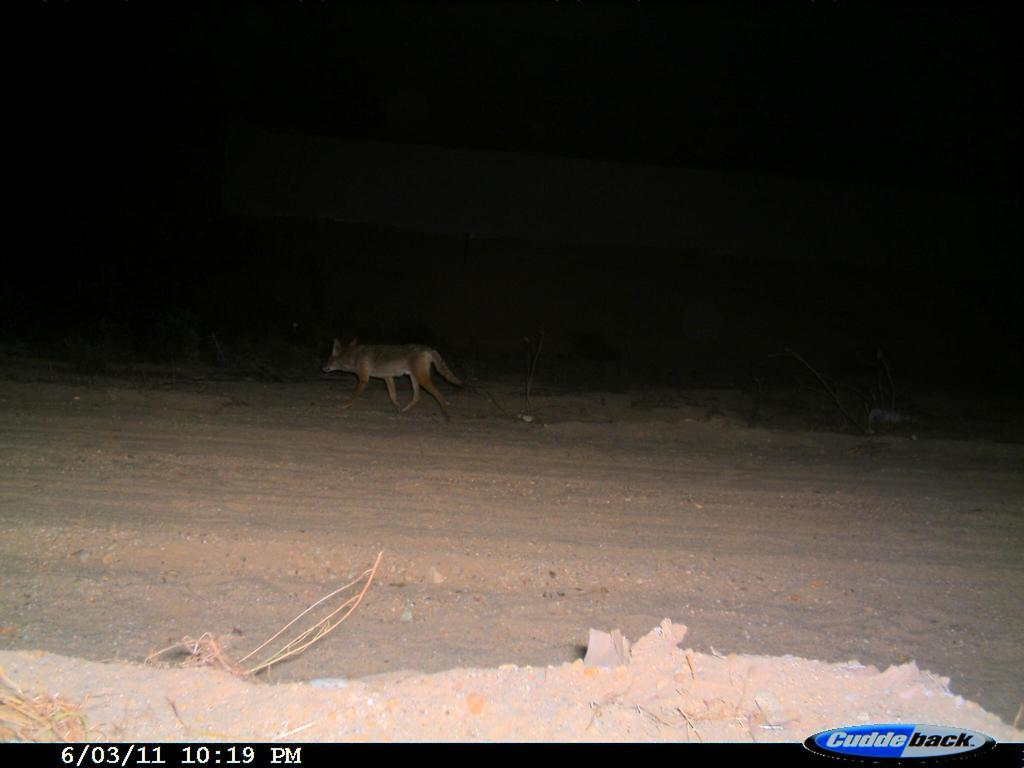coyote: (305, 326, 472, 428)
